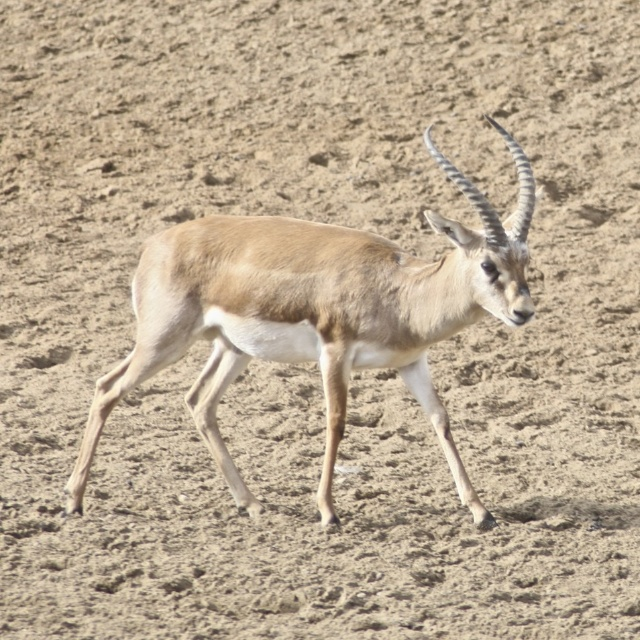Deer: (64, 115, 536, 532)
